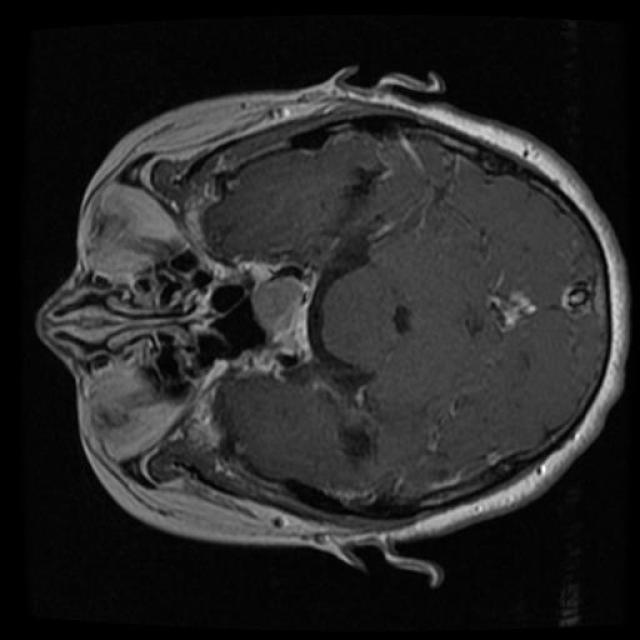Pituitary: (233, 252, 321, 382)
